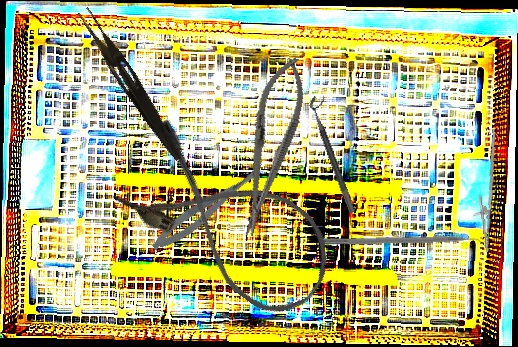Cannula: (105, 111, 351, 331)
Chopper: (320, 235, 489, 254)
Dressing Forceps: (72, 6, 190, 163)
Fixation Ring: (307, 93, 365, 214)
Micro Scissor: (146, 159, 272, 257)
Needle Holder: (226, 52, 315, 241), (467, 128, 505, 253)
